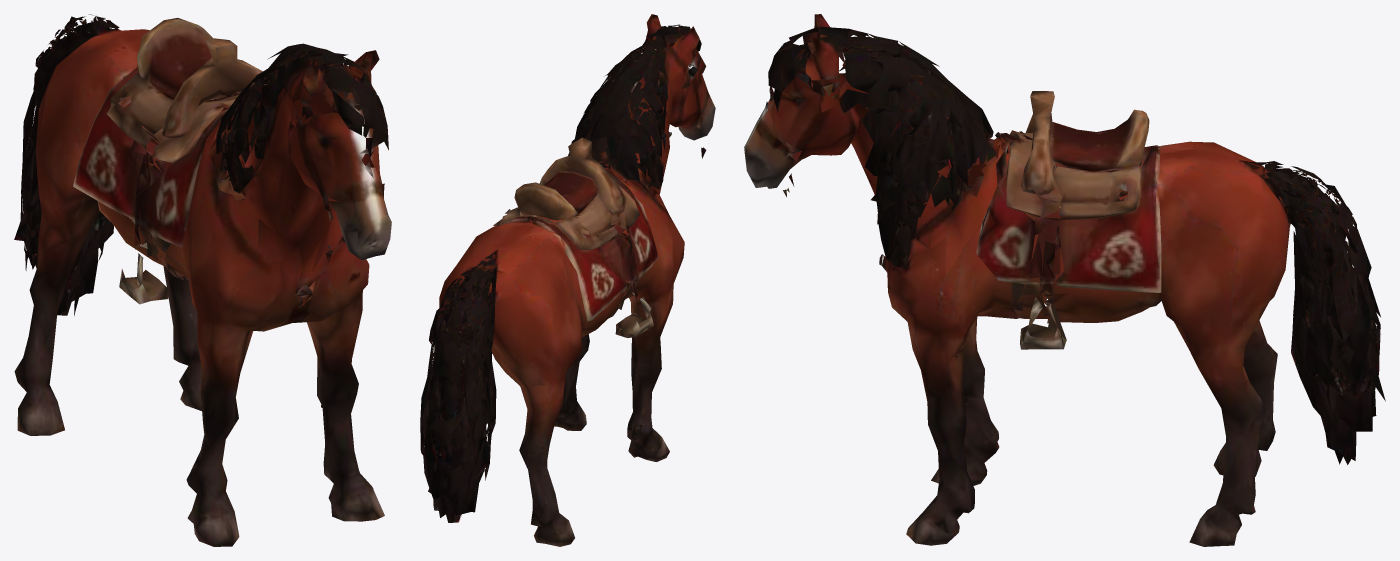
File: horse-saddled.phone.glb
3 views of the same model, side by side, from view 1: azimuth 30°, elevation 25°; view 2: azimuth 150°, elevation 25°; view 3: azimuth 270°, elevation 25° (orthographic). The views are drawn at different scales.
Parts seen in each view (by area): view 1: horse-saddled.raw; view 2: horse-saddled.raw; view 3: horse-saddled.raw.
Boxes of the visible parts, x1=… form: horse-saddled.raw: x1=14, y1=14, x2=391, y2=546; horse-saddled.raw: x1=420, y1=14, x2=715, y2=546; horse-saddled.raw: x1=744, y1=14, x2=1385, y2=546.
Size of the model in its own units: 0.7453 by 1.9 by 2.31.
1 material, 1 textured.
